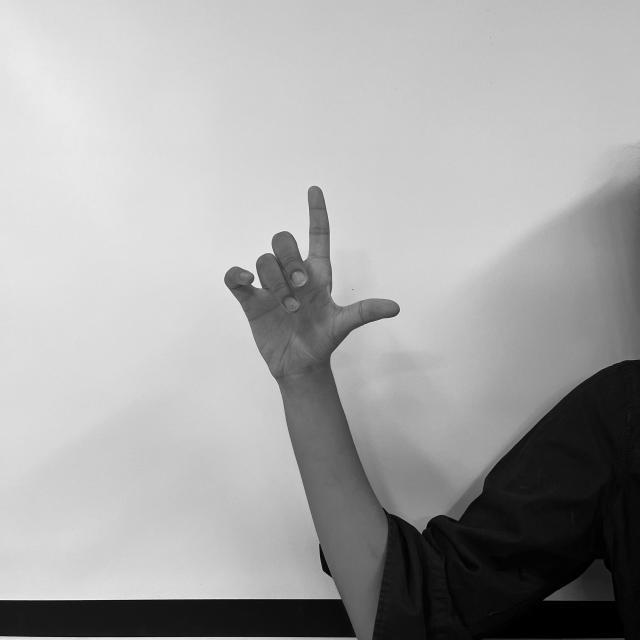Letra L: (220, 182, 403, 380)
